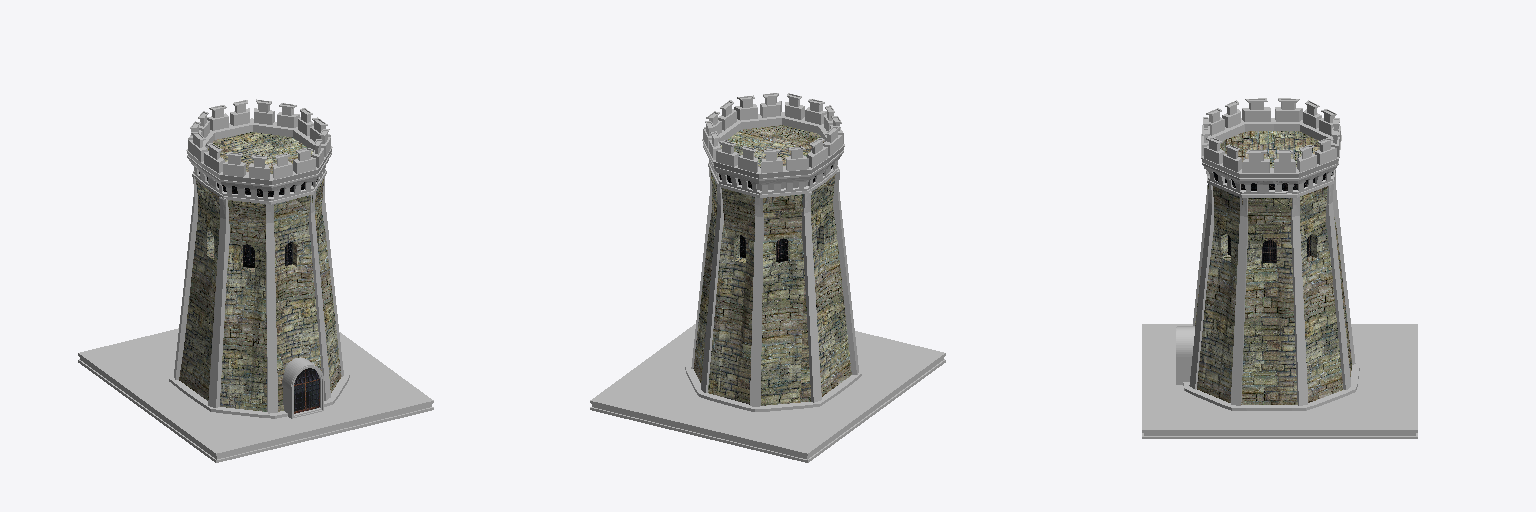
3 renders of one model, left to right at view 1: azimuth 30°, elevation 25°; view 2: azimuth 150°, elevation 25°; view 3: azimuth 270°, elevation 25°, orthographic.
Visible parts, largest first — view 1: tower_ccca_pCylinder22, floor; view 2: tower_ccca_pCylinder22, floor; view 3: tower_ccca_pCylinder22, floor.
Boxes of the visible parts, x1=… form: tower_ccca_pCylinder22: x1=169, y1=99, x2=349, y2=418; floor: x1=78, y1=328, x2=433, y2=462; tower_ccca_pCylinder22: x1=685, y1=93, x2=861, y2=411; floor: x1=590, y1=324, x2=945, y2=462; tower_ccca_pCylinder22: x1=1176, y1=98, x2=1359, y2=410; floor: x1=1142, y1=324, x2=1417, y2=438.
Size of the model in its own units: 3.25 by 3.72 by 3.57.
4 materials, 3 textured.